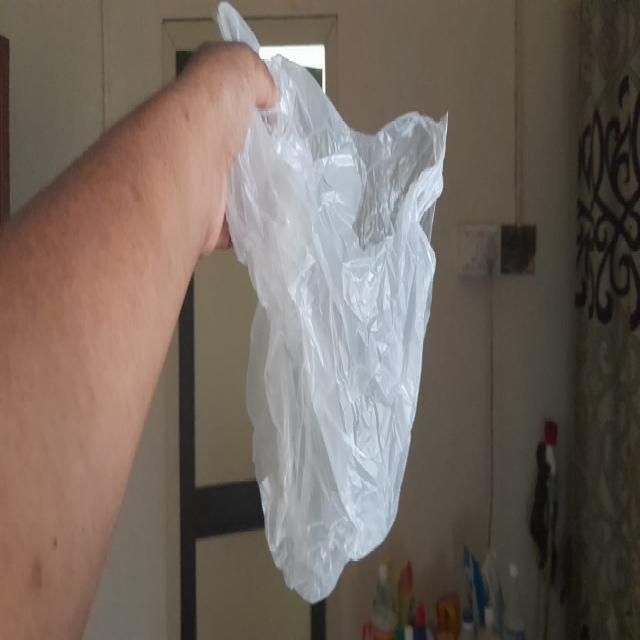Plastic - Recyclable: (213, 4, 449, 606)
